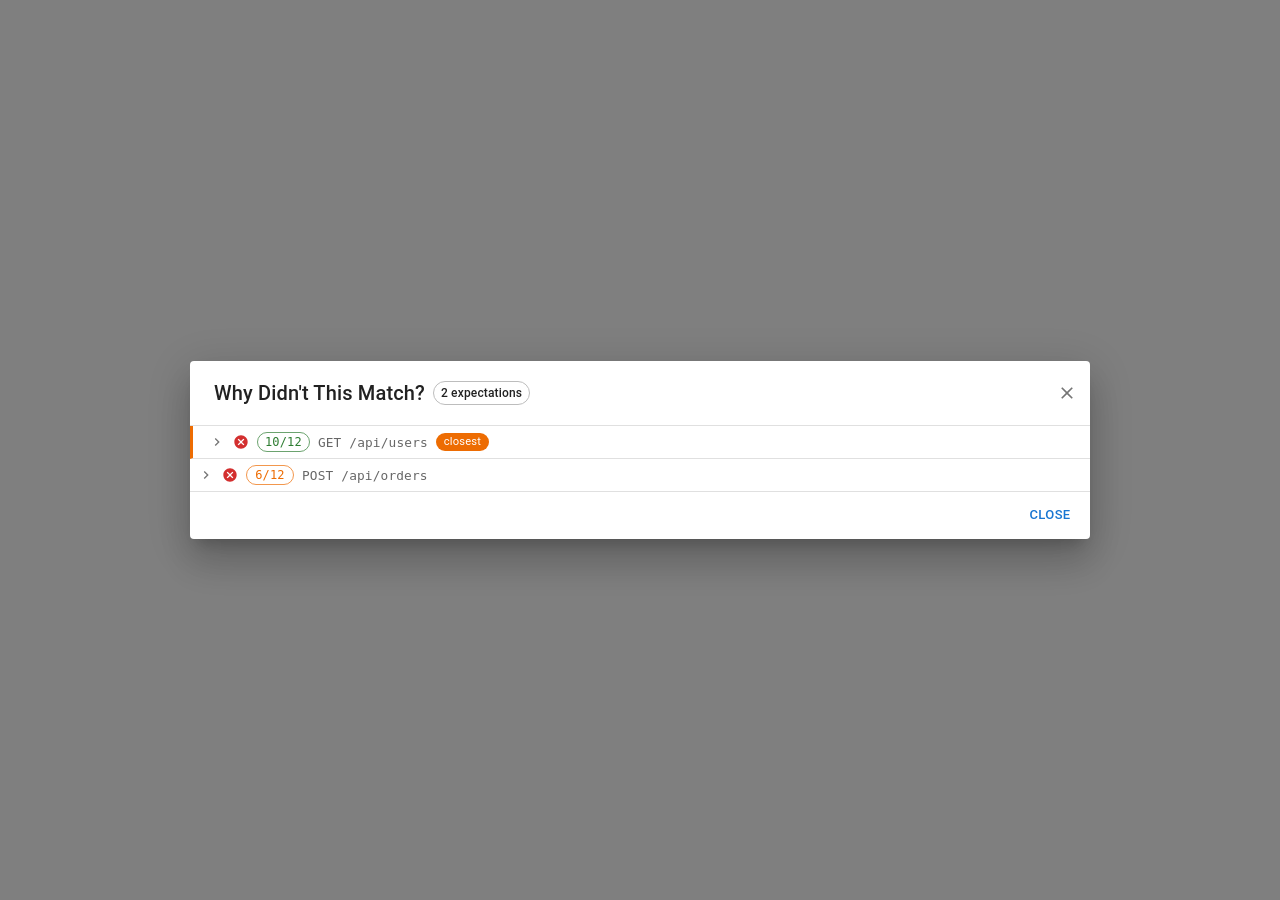
Scenario: DebugMismatchDialog › expands to show differences when clicked
This screenshot has width=1280, height=900.
Click the text "GET /api/users". click: x=373, y=442
box: [318,432,428,452]
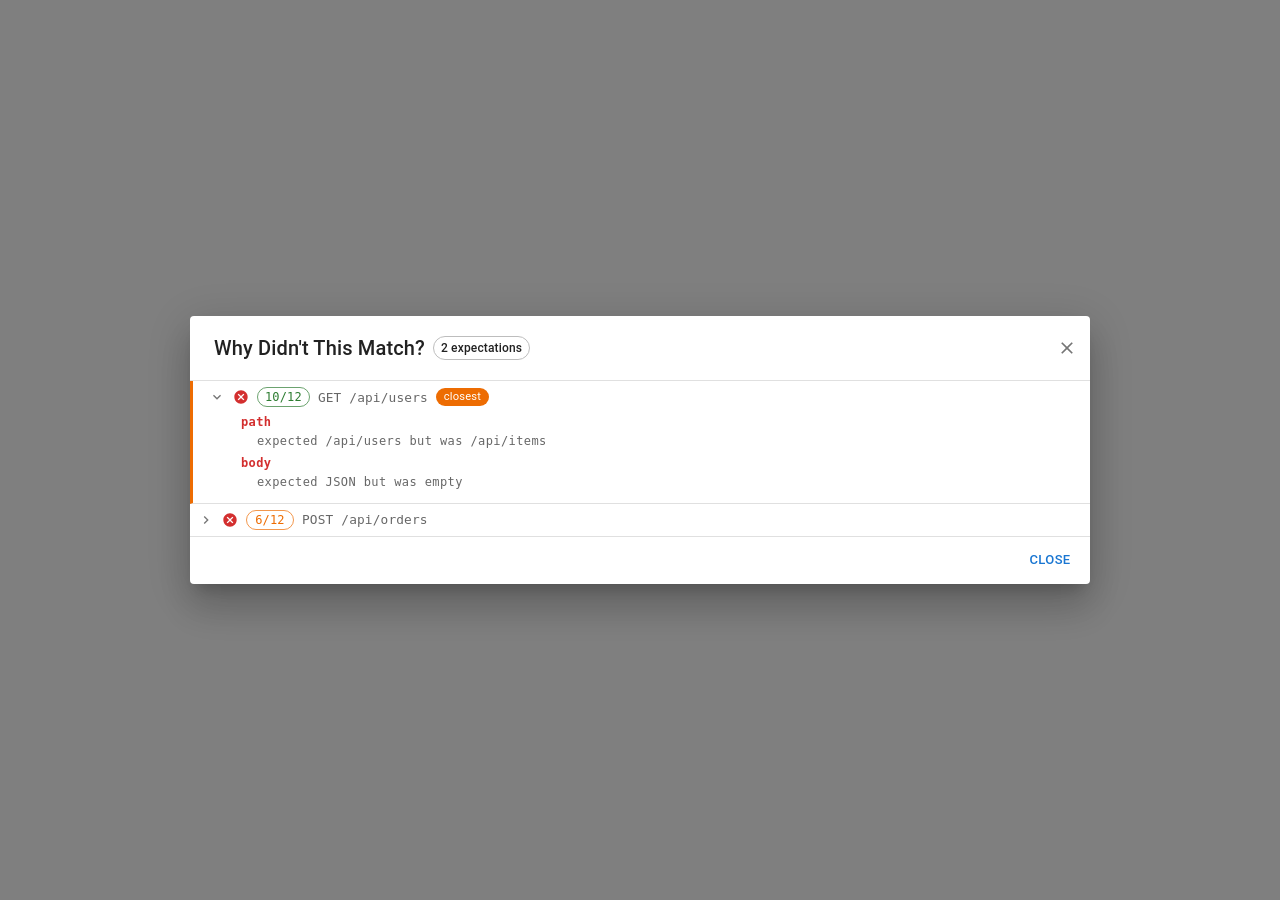
Result: the text "path" is shown at [241,415,272,429]
Result: the text "expected /api/users but was /api/items" is shown at [257,434,547,448]
